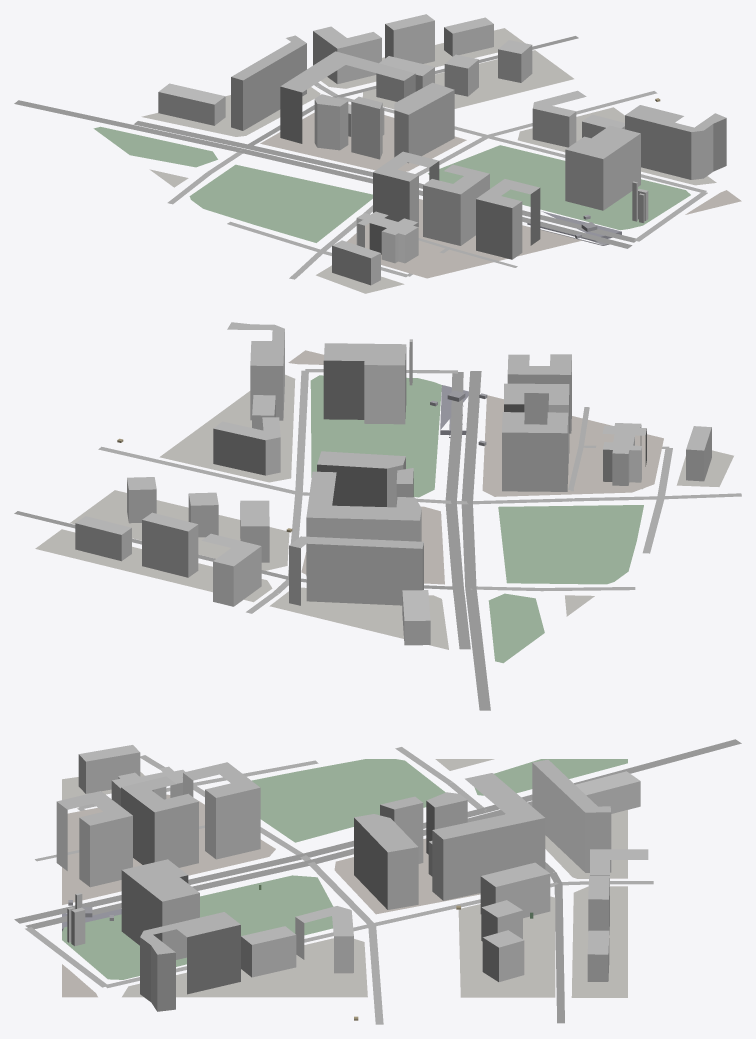
3 renders of one model, top to bottom at view 1: azimuth 30°, elevation 25°; view 2: azimuth 150°, elevation 25°; view 3: azimuth 270°, elevation 25°, orthographic. The views are drawn at different scales.
Size of the model in its own units: 599 by 72.53 by 643.
